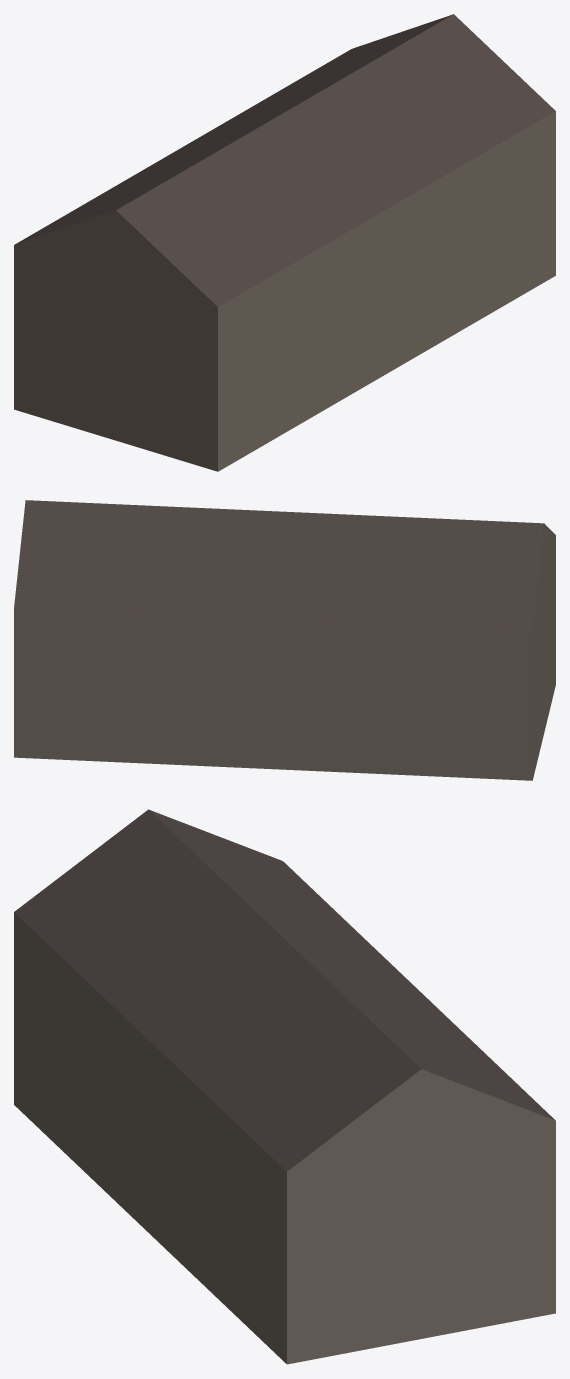
3 renders of one model, top to bottom at view 1: azimuth 30°, elevation 25°; view 2: azimuth 150°, elevation 25°; view 3: azimuth 270°, elevation 25°, orthographic. The views are drawn at different scales.
Visible parts, largest first — view 1: HP-w373833575; view 2: HP-w373833575; view 3: HP-w373833575.
Boxes of the visible parts, box(x1,y1,x2,y2) form: HP-w373833575: box(14, 14, 555, 471); HP-w373833575: box(14, 500, 555, 780); HP-w373833575: box(14, 809, 555, 1364).
Size of the model in its own units: 31.12 by 12.6 by 22.94.
